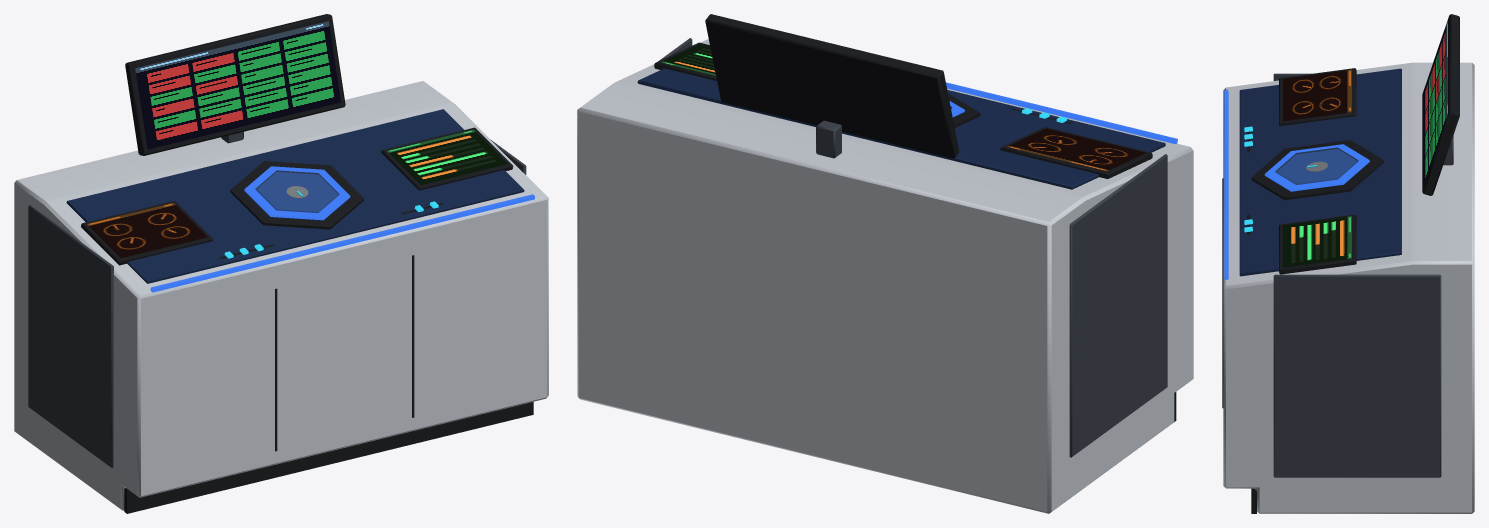
Rendered from console_shield_control.glb.
3 renders of one model, left to right at view 1: azimuth 30°, elevation 25°; view 2: azimuth 150°, elevation 25°; view 3: azimuth 270°, elevation 25°, orthographic. The views are drawn at different scales.
Visible parts, largest first — view 1: console_shield_control; view 2: console_shield_control; view 3: console_shield_control.
Boxes of the visible parts, box(x1,y1,x2,y2) form: console_shield_control: box(14, 14, 548, 513); console_shield_control: box(577, 14, 1193, 513); console_shield_control: box(1222, 14, 1474, 513).
Size of the model in its own units: 1.72 by 1.39 by 0.904.
11 materials, 3 textured.
